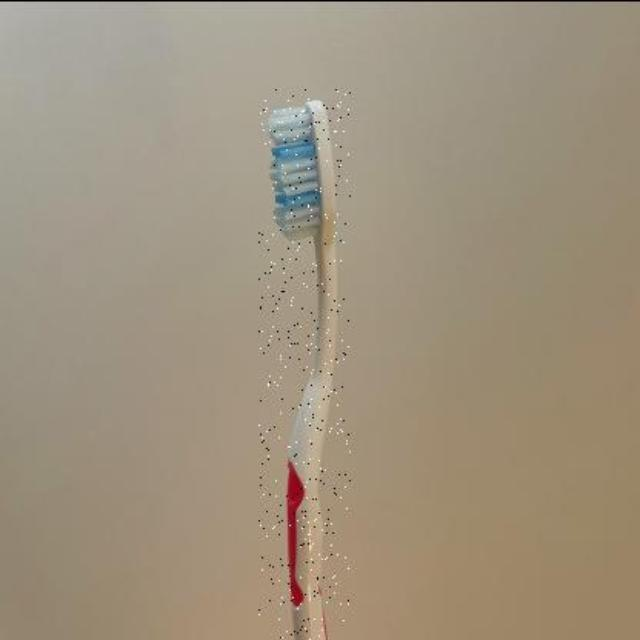toothbrush: (259, 88, 351, 640)
